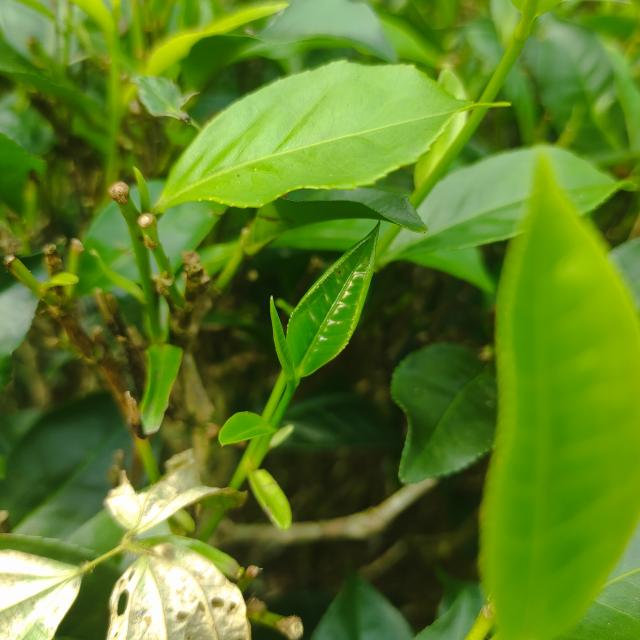unopened_leaf: (264, 288, 304, 391)
